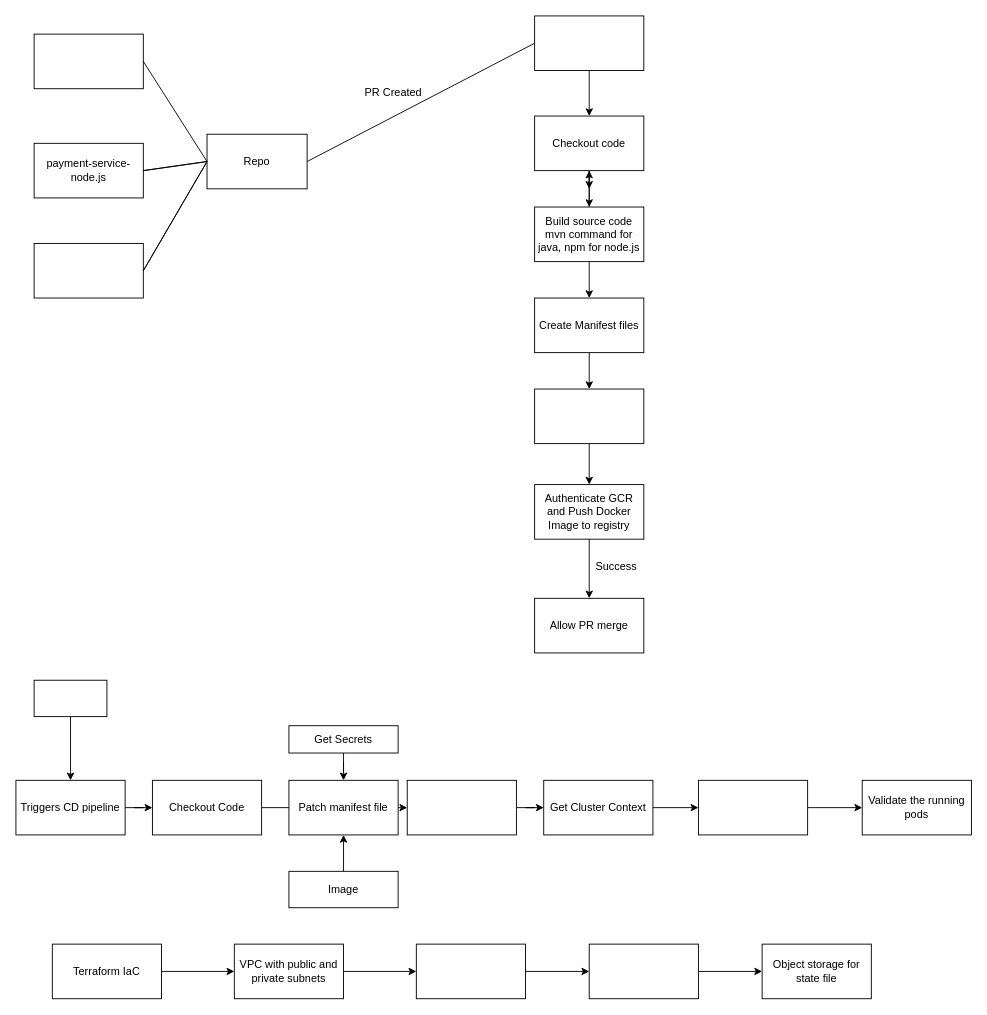
This 987x1015 diagram has some shape labels left out. Here are the shapes that lost their labels. From the top down, the box of each, then its label:
(33, 33, 143, 89): application-service - node.js
(534, 15, 644, 71): Triggers CI Pipeline
(33, 243, 143, 298): order-service - java
(534, 388, 644, 444): Build Docker File
(33, 679, 107, 717): PR merge
(406, 779, 516, 835): Authenticate to GCP
(698, 779, 808, 835): Deploy the microservices
(415, 943, 526, 999): Create GKE
(588, 943, 698, 999): GCR
